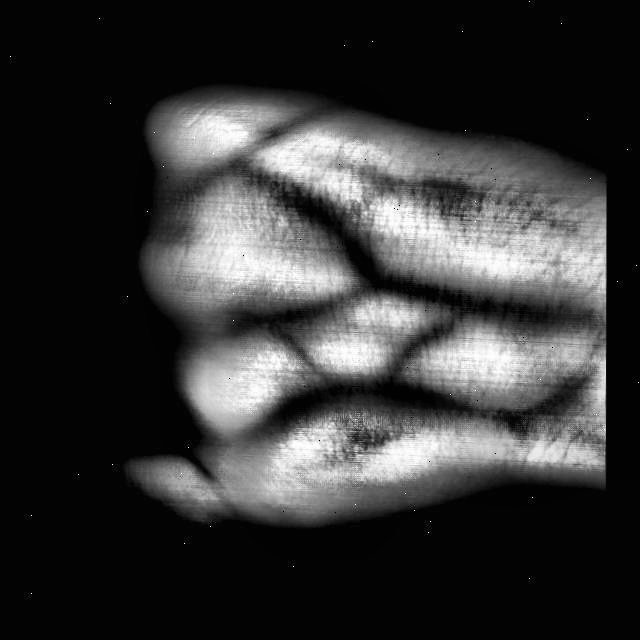Vein: (387, 267, 585, 336)
